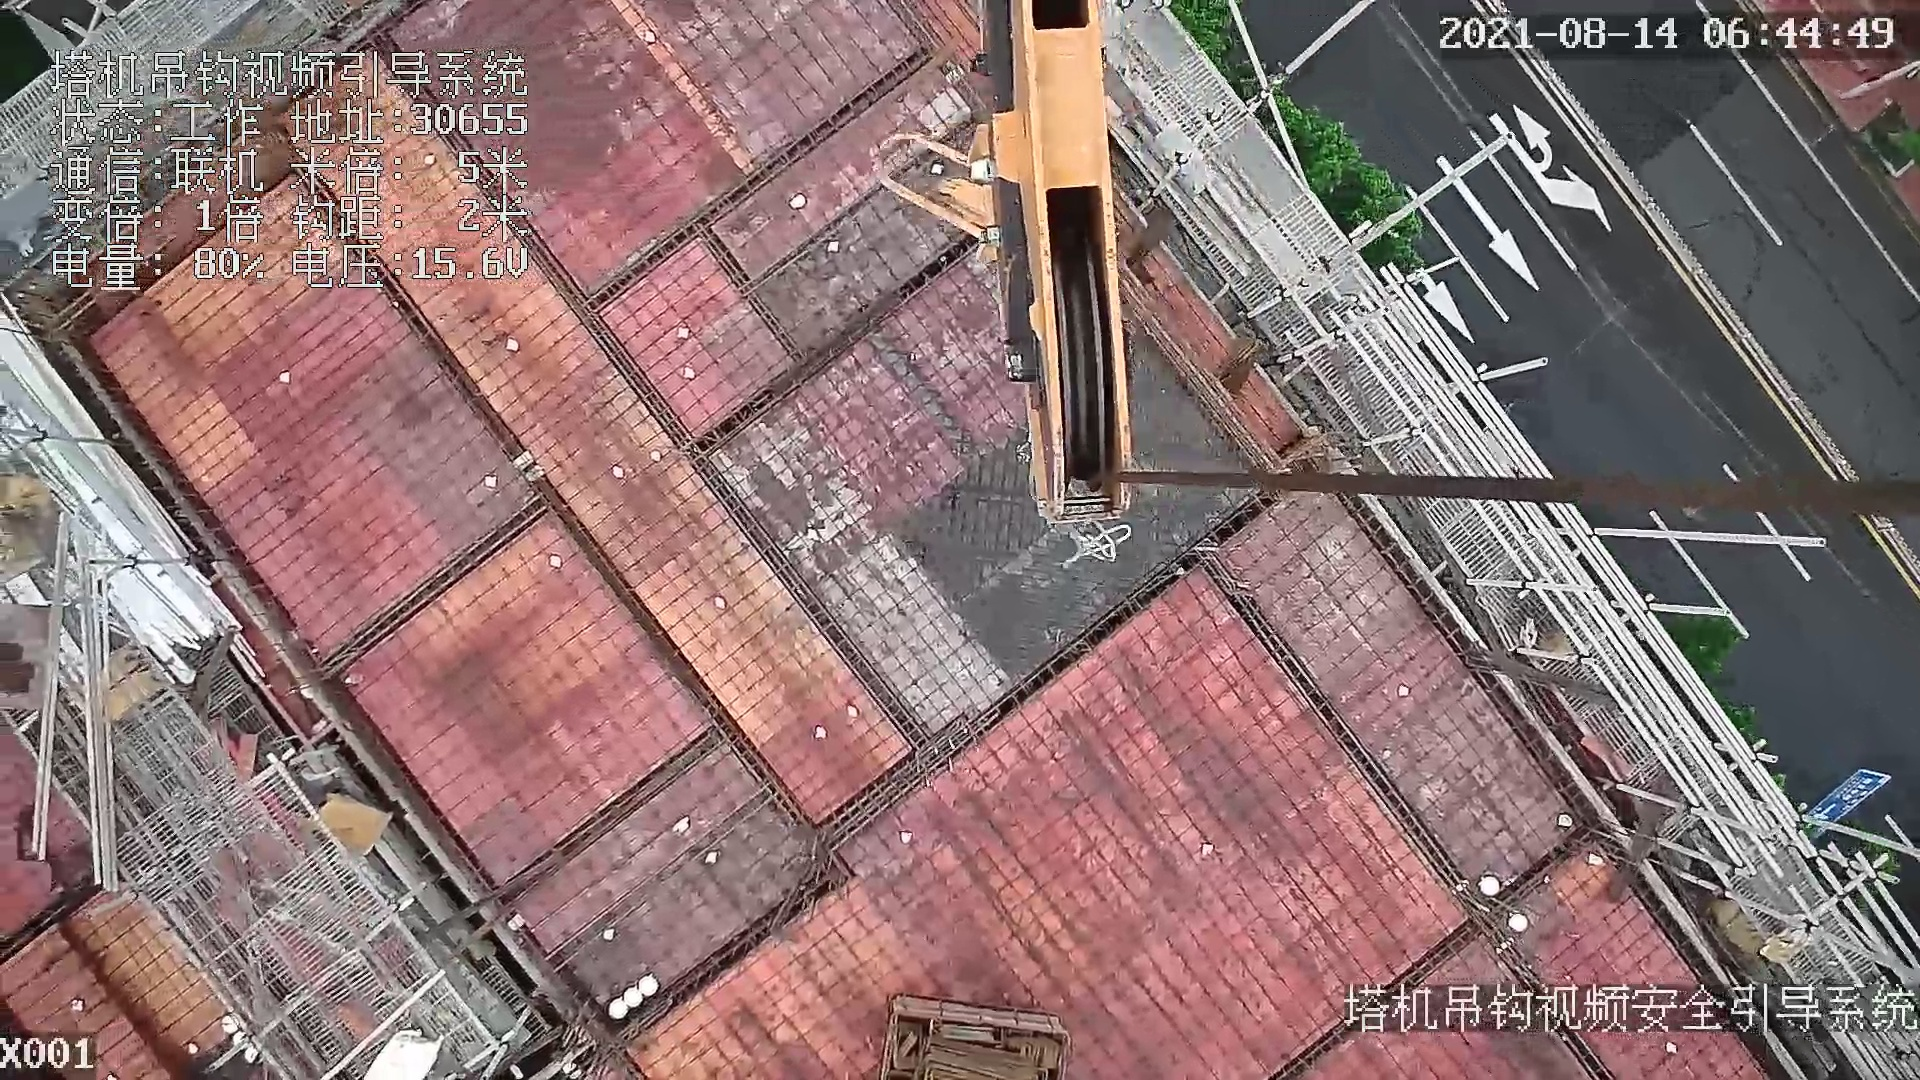hook: (868, 4, 1135, 526)
